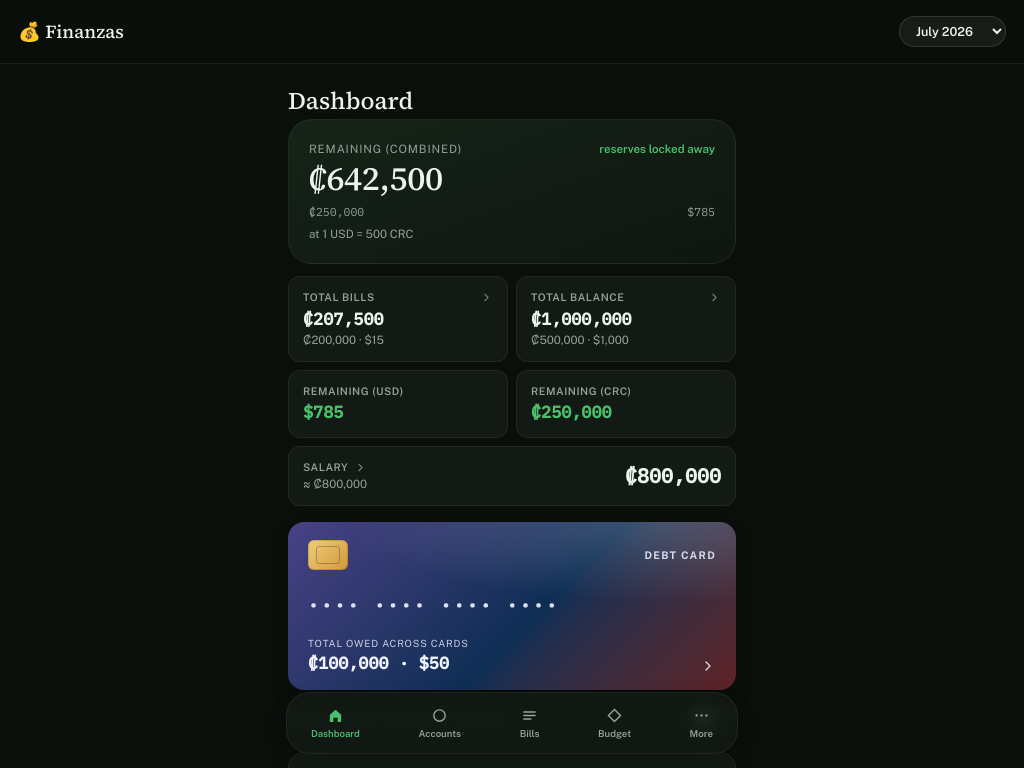
Scenario: Budget — with data › computes reserved amounts from balances (percent and fixed)
Click the button "Budget".
click(615, 723)  # box [592, 703, 637, 743]
(page scrolled)
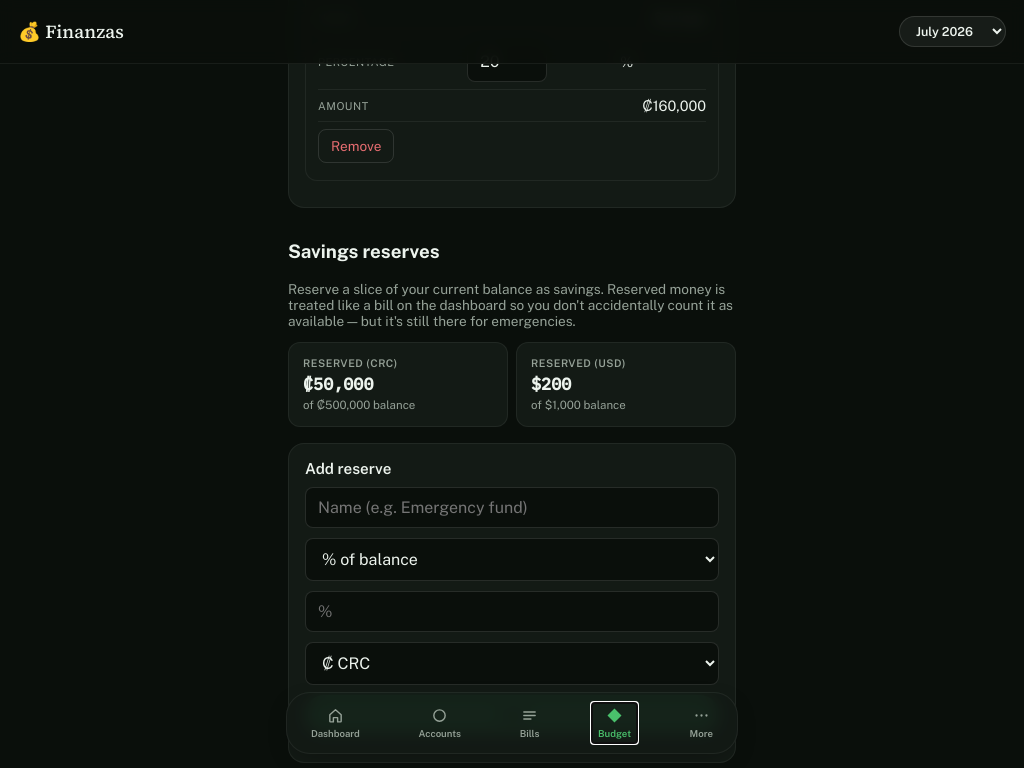
Check: the text "₡50,000" is shown, box [303, 374, 374, 396]
Check: the text "$200" is shown, box [531, 374, 571, 396]
